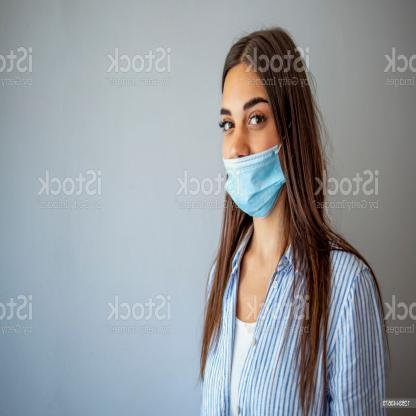mask_weared_incorrect: (216, 82, 294, 223)
